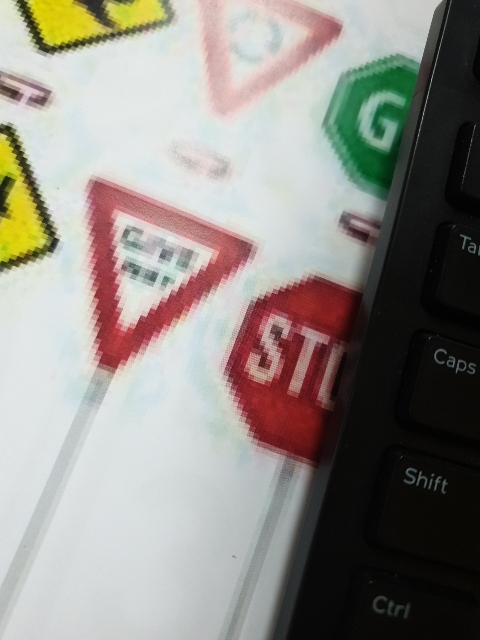giveway: (84, 177, 234, 350)
stop: (242, 276, 376, 454)
